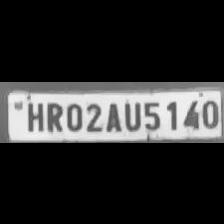0: (64, 100, 82, 132), (200, 96, 218, 128)
1: (162, 97, 180, 129)
2: (83, 100, 103, 132)
4: (180, 96, 200, 130)
5: (140, 98, 162, 130)
A: (103, 100, 121, 132)
H: (22, 99, 44, 131)
R: (44, 100, 62, 132)
U: (122, 98, 140, 130)
